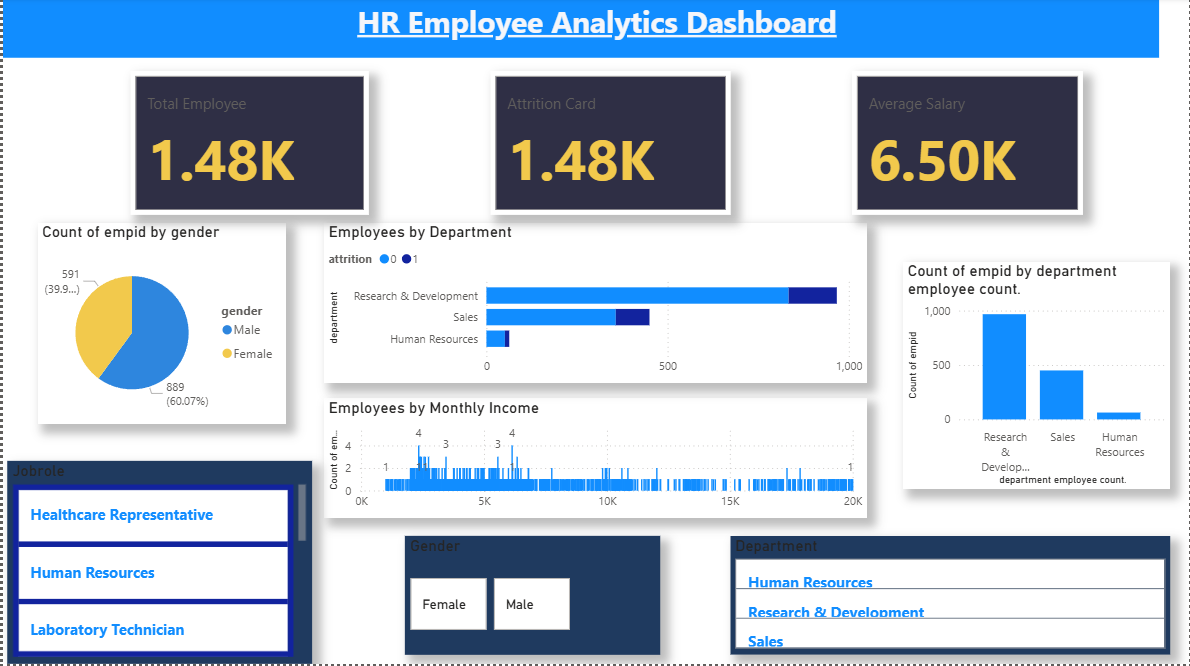

What the dashboard file says about the page in this screenshot:
{"tool":"powerbi","page":{"name":"Page 1","canvas":[1280,720],"ordinal":0},"visuals":[{"type":"cardVisual","fields":{"Data":["CountNonNull(cleaned_hr_data.empid)"]},"box":[137.6,81,257.5,155.4],"z":0},{"type":"cardVisual","fields":{"Data":["Avg(cleaned_hr_data.monthlyincome)"]},"box":[916.5,81,249.4,155.4],"z":1000},{"type":"cardVisual","fields":{"Data":["CountNonNull(cleaned_hr_data.attrition)"]},"box":[526.2,81,259.1,155.4],"z":2000},{"type":"clusteredColumnChart","fields":{"Category":["cleaned_hr_data.department"],"Y":["CountNonNull(cleaned_hr_data.empid)"]},"box":[971.5,286.6,288.2,246.1],"z":3000},{"type":"barChart","title":"Employees by Department","fields":{"Category":["cleaned_hr_data.department"],"Series":["cleaned_hr_data.attrition"],"Y":["CountNonNull(cleaned_hr_data.empid)"]},"box":[346.5,244.5,586.2,173.3],"z":4000},{"type":"pieChart","fields":{"Category":["cleaned_hr_data.gender"],"Y":["CountNonNull(cleaned_hr_data.empid)"]},"box":[37.4,244.1,268.5,218],"z":5000},{"type":"columnChart","title":"Employees by Monthly Income","fields":{"Category":["cleaned_hr_data.monthlyincome"],"Y":["CountNonNull(cleaned_hr_data.empid)"]},"box":[346.5,434,586.2,129.5],"z":6000},{"type":"advancedSlicerVisual","fields":{"Values":["cleaned_hr_data.department"]},"box":[785.3,582.9,474.4,127.9],"z":7000},{"type":"advancedSlicerVisual","fields":{"Values":["cleaned_hr_data.gender"]},"box":[434,582.9,275.3,127.9],"z":8000},{"type":"advancedSlicerVisual","fields":{"Values":["cleaned_hr_data.jobrole"]},"box":[4.9,502,328.7,218.6],"z":9000},{"type":"textbox","box":[0,0,1248,66.7],"z":10000}]}

Visuals, with their boxes in screenshot pixels (x1, y1, x2, y2), scaled from the page's 1280x720 canvas onto the 1190x666 screenshot:
cardVisual - CountNonNull(cleaned_hr_data.empid): l=128, t=75, r=367, b=219
cardVisual - Avg(cleaned_hr_data.monthlyincome): l=852, t=75, r=1084, b=219
cardVisual - CountNonNull(cleaned_hr_data.attrition): l=489, t=75, r=730, b=219
clusteredColumnChart - cleaned_hr_data.department x CountNonNull(cleaned_hr_data.empid): l=903, t=265, r=1171, b=493
"Employees by Department" barChart: l=322, t=226, r=867, b=386
pieChart - cleaned_hr_data.gender x CountNonNull(cleaned_hr_data.empid): l=35, t=226, r=284, b=427
"Employees by Monthly Income" columnChart: l=322, t=401, r=867, b=521
advancedSlicerVisual - cleaned_hr_data.department: l=730, t=539, r=1171, b=657
advancedSlicerVisual - cleaned_hr_data.gender: l=403, t=539, r=659, b=657
advancedSlicerVisual - cleaned_hr_data.jobrole: l=5, t=464, r=310, b=665
textbox: l=0, t=0, r=1160, b=62
